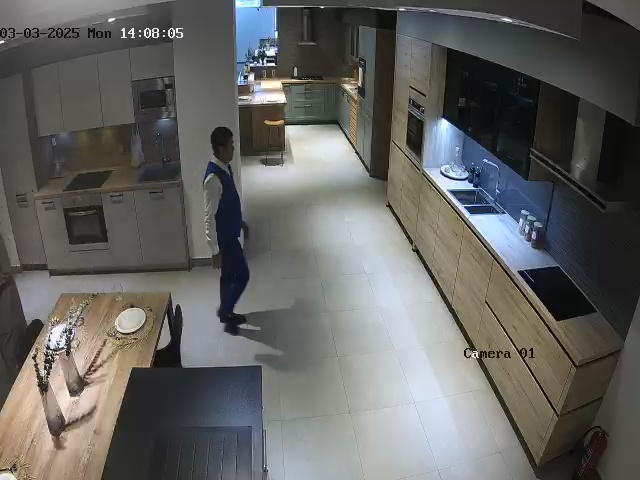employee: (202, 126, 250, 331)
